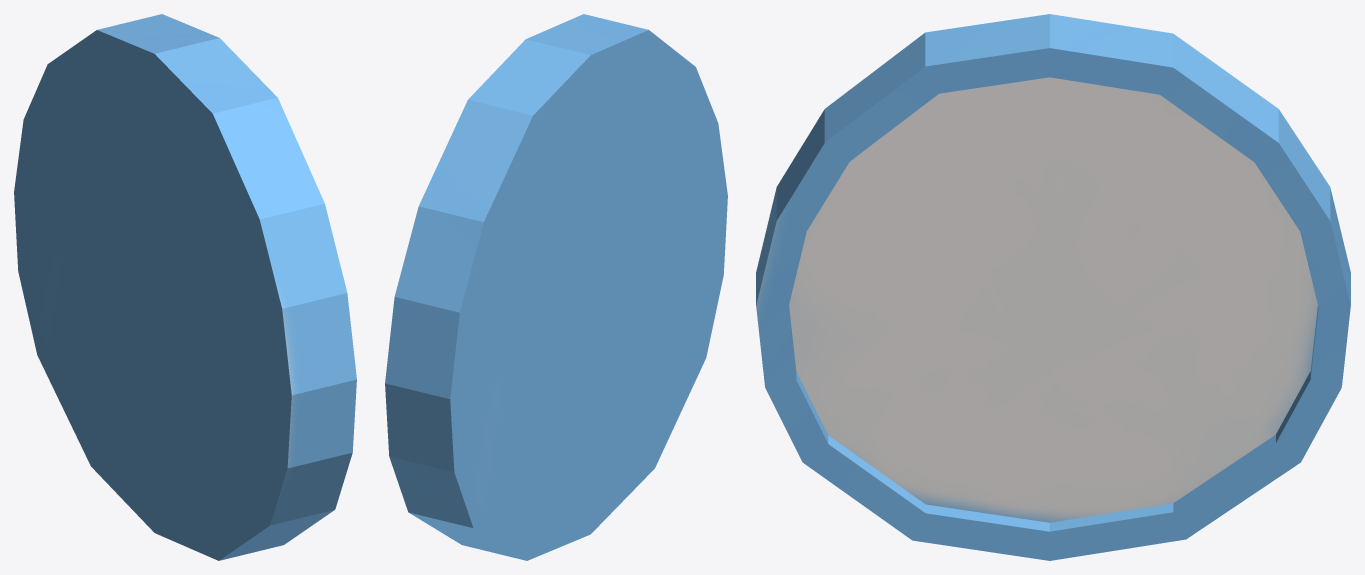
File: Kello.fbx
3 views of the same model, side by side, from view 1: azimuth 30°, elevation 25°; view 2: azimuth 150°, elevation 25°; view 3: azimuth 270°, elevation 25° (orthographic). The views are drawn at different scales.
Parts seen in each view (by area): view 1: Cube; view 2: Cube; view 3: Cube.
Part boxes in pixels (left/top/right/bottom): Cube: left=14, top=14, right=356, bottom=560; Cube: left=385, top=14, right=727, bottom=560; Cube: left=756, top=14, right=1350, bottom=560.
Size of the model in its own units: 22.94 by 161 by 169.
